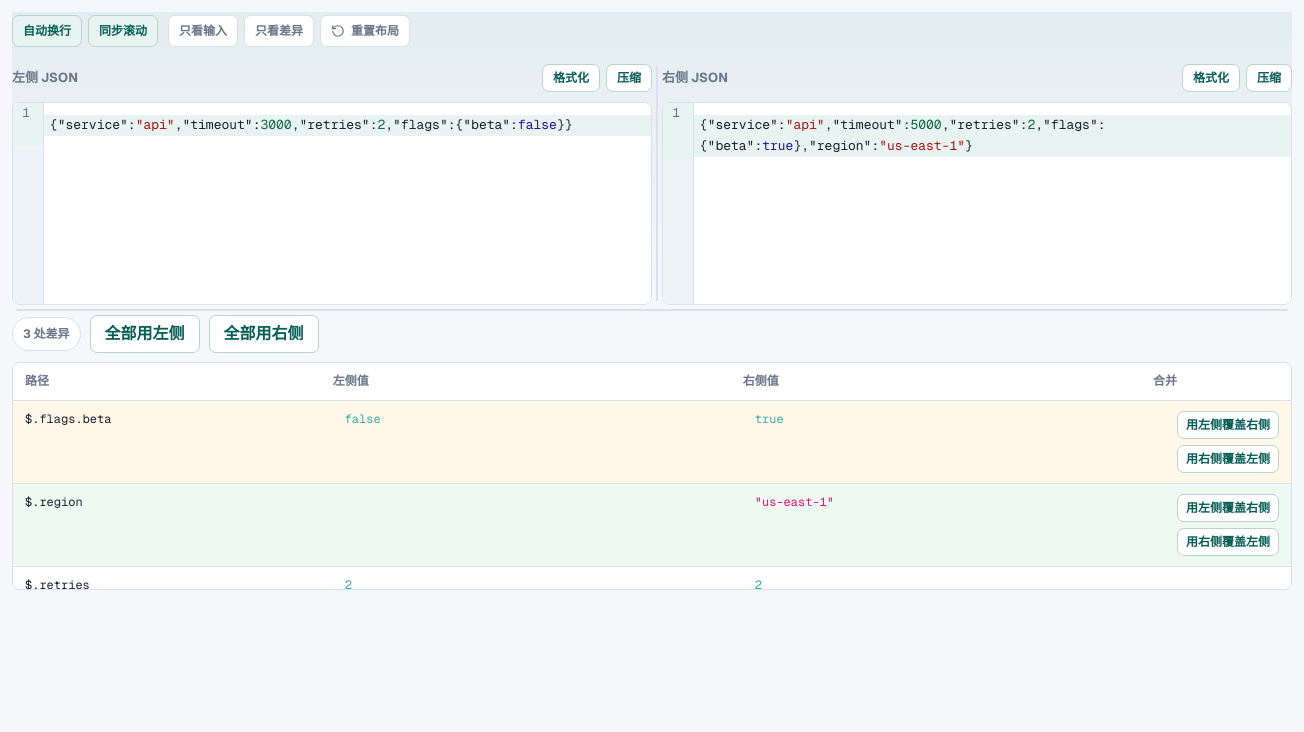
Test: workbench keyboard and theme interactions › lets JSON diff focus on the result and restore the split view
Click the button "只看差异" at (279, 31), box [244,15,314,47]
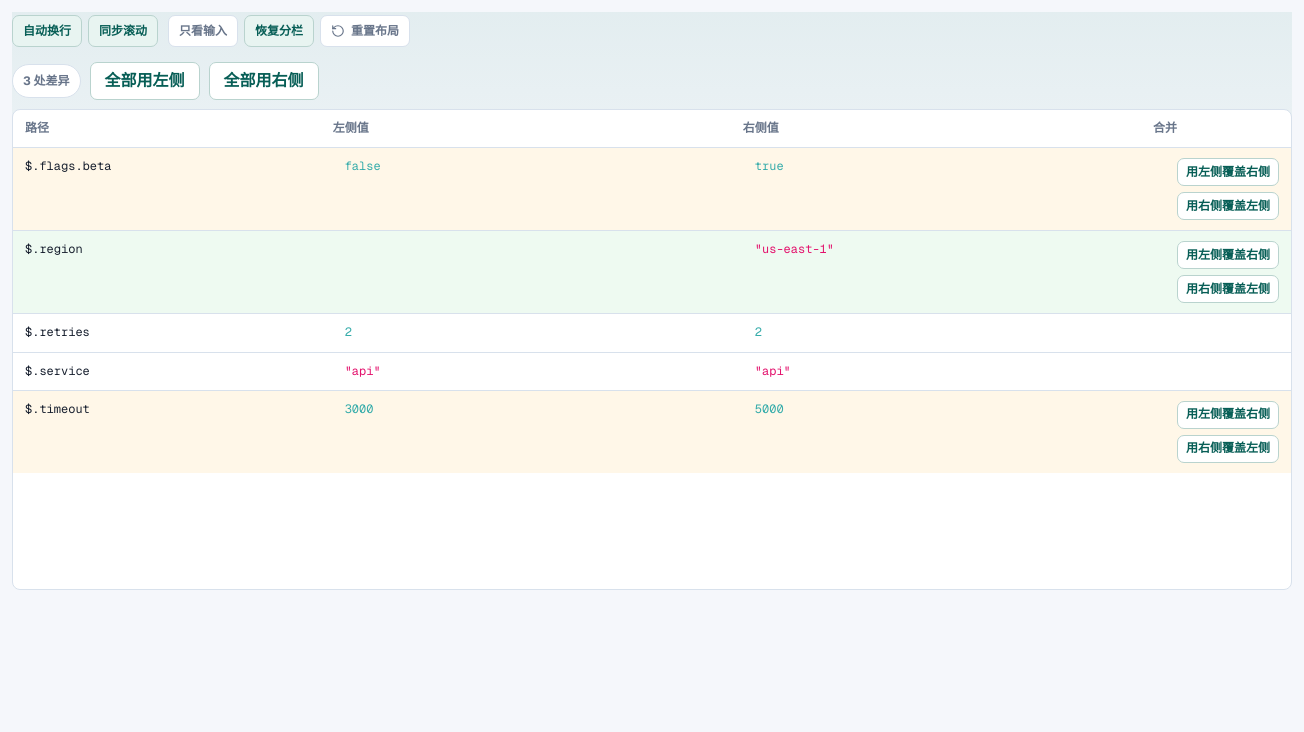
Check: the text labelled "左侧 JSON" is gone
Click the button "恢复分栏" at (279, 31), box [244,15,314,47]
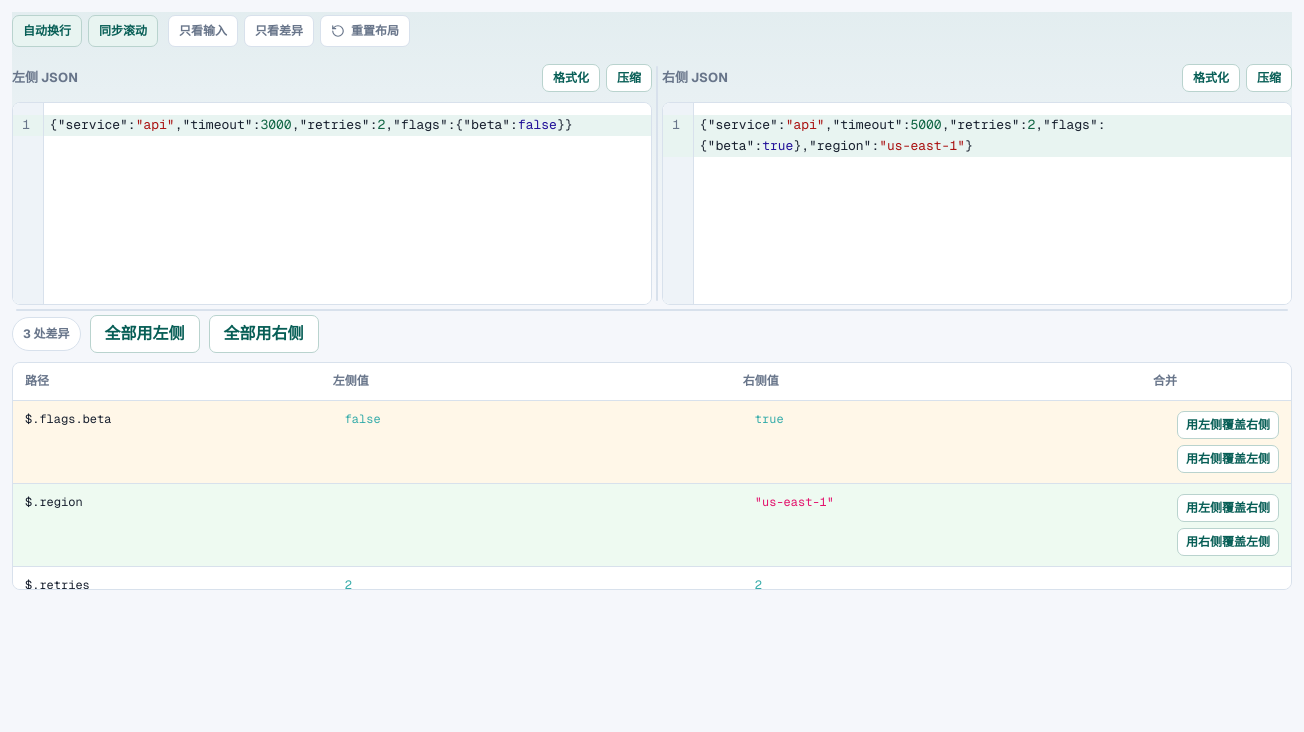
Check: the element named "左侧 JSON" is shown, box [12,102,652,305]
